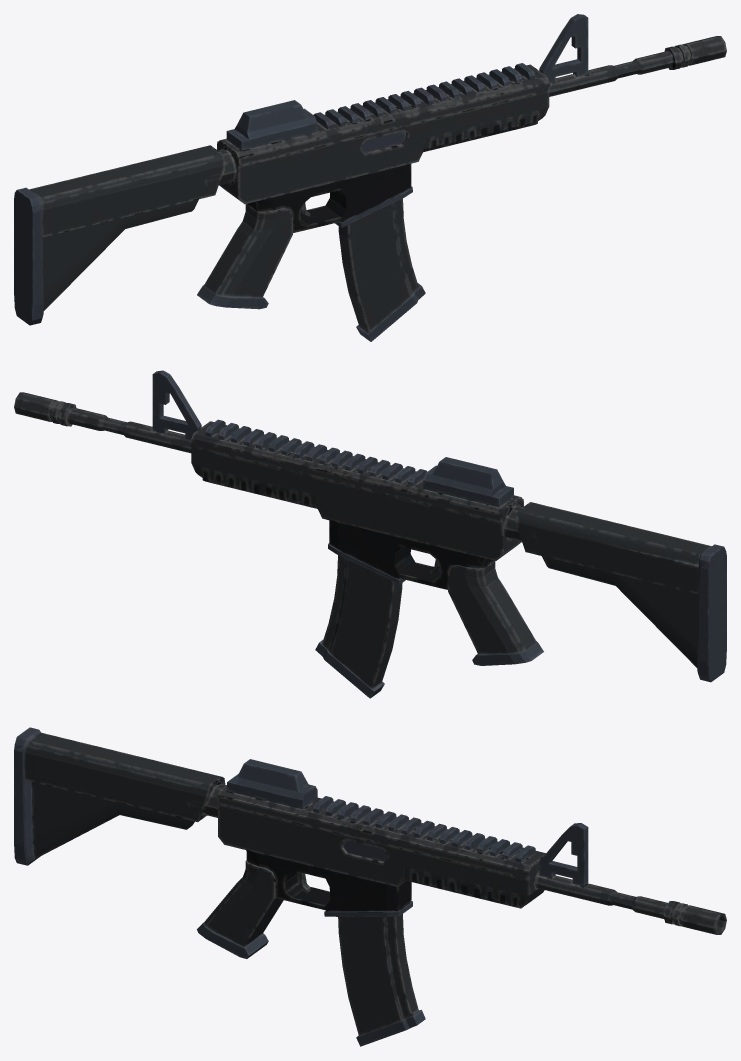
The picture shows the model from 3 angles, top to bottom: view 1: azimuth 30°, elevation 25°; view 2: azimuth 150°, elevation 25°; view 3: azimuth 330°, elevation 25°; orthographic projection.
Visible parts, largest first — view 1: Body, Magazine; view 2: Body, Magazine; view 3: Body, Magazine.
Boxes of the visible parts, x1,y1,x2,y2 form: Body: [14, 14, 726, 325]; Magazine: [325, 186, 425, 341]; Body: [14, 370, 726, 682]; Magazine: [315, 543, 414, 698]; Body: [14, 727, 726, 958]; Magazine: [324, 900, 425, 1046].
Size of the model in its own units: 4.83 by 1.79 by 0.2693.
Materials: 1 (1 with a texture image).
